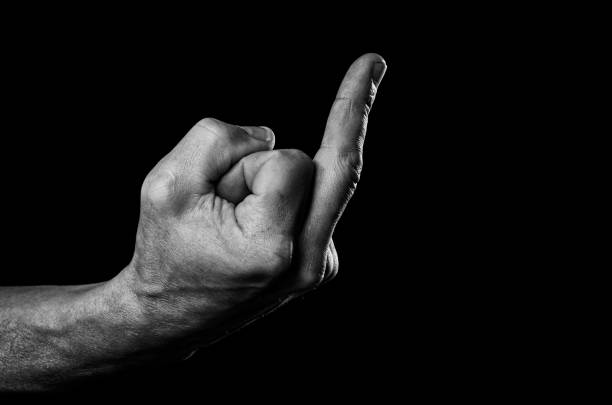insulting_gesture: (136, 52, 387, 320)
